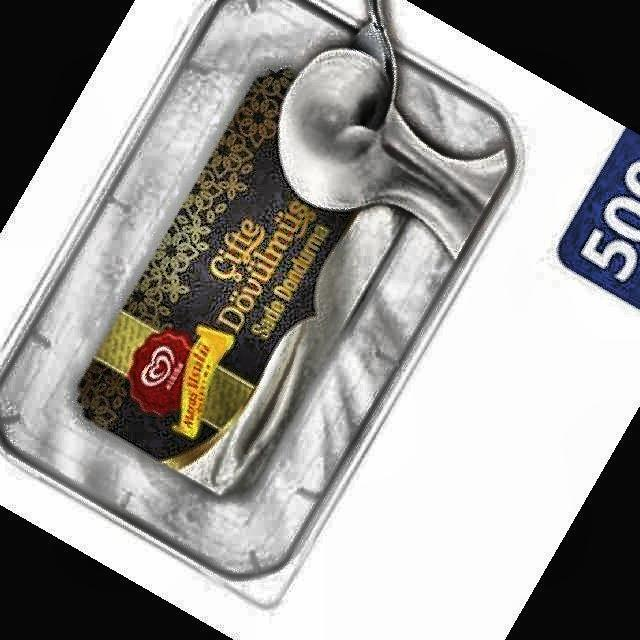plastic: (0, 0, 528, 609)
